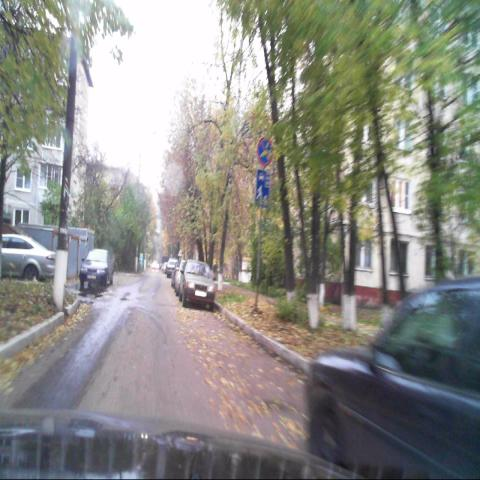5_21: (255, 170, 270, 206)
